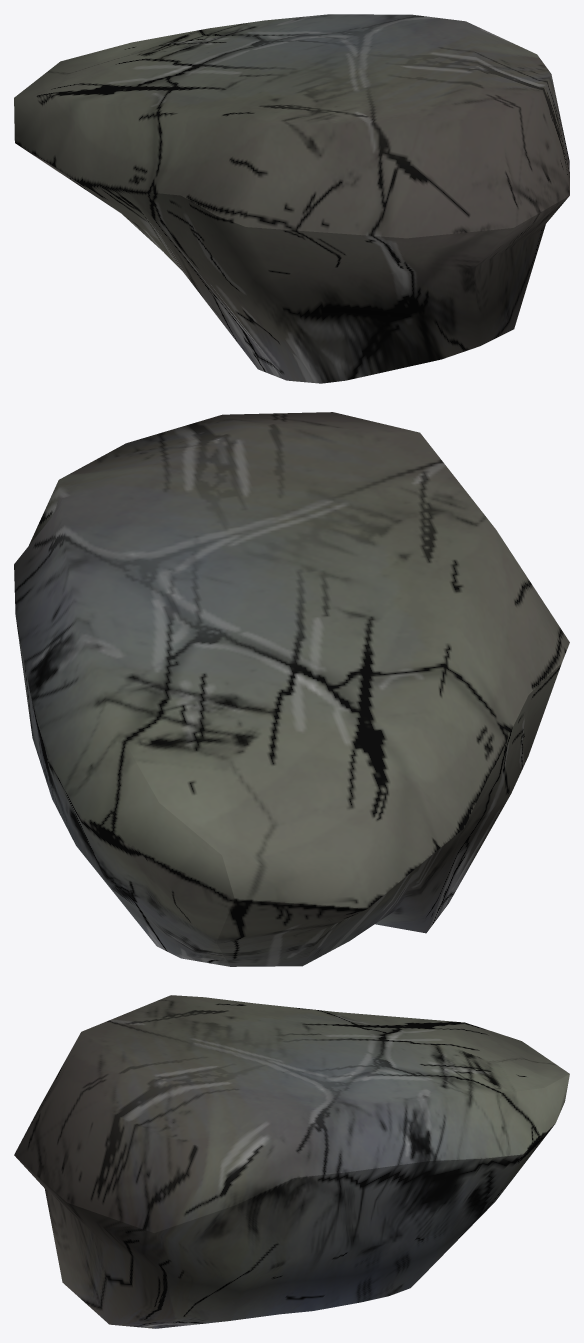
Rendered from Rock_03C.fbx.
3 views of the same model, one above another, from view 1: azimuth 30°, elevation 25°; view 2: azimuth 150°, elevation 25°; view 3: azimuth 270°, elevation 25° (orthographic). The views are drawn at different scales.
Parts seen in each view (by area): view 1: Rock01:Mesh6; view 2: Rock01:Mesh6; view 3: Rock01:Mesh6.
Part boxes in pixels (<box>): Rock01:Mesh6: <box>14,14,569,383</box>; Rock01:Mesh6: <box>14,412,569,966</box>; Rock01:Mesh6: <box>14,995,569,1328</box>.
Size of the model in its own units: 7.4 by 5.11 by 9.21.
